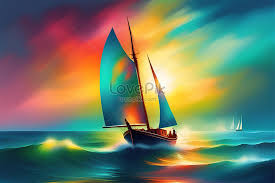boat: (99, 16, 180, 149)
